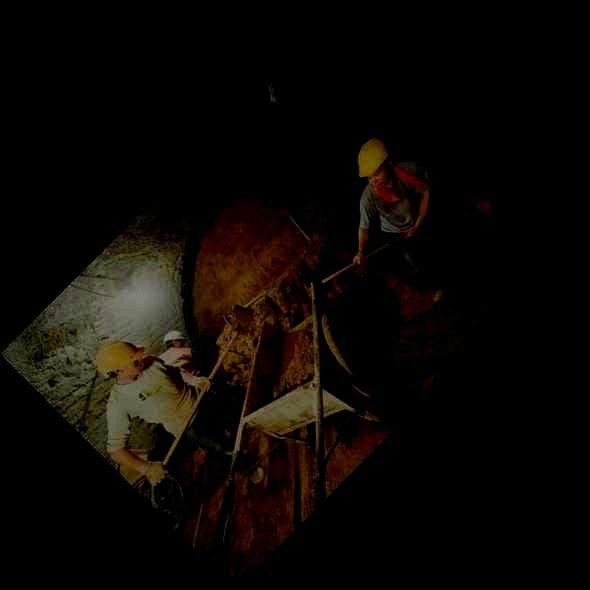helmet: (94, 340, 145, 380), (357, 137, 394, 189), (164, 330, 187, 349)
